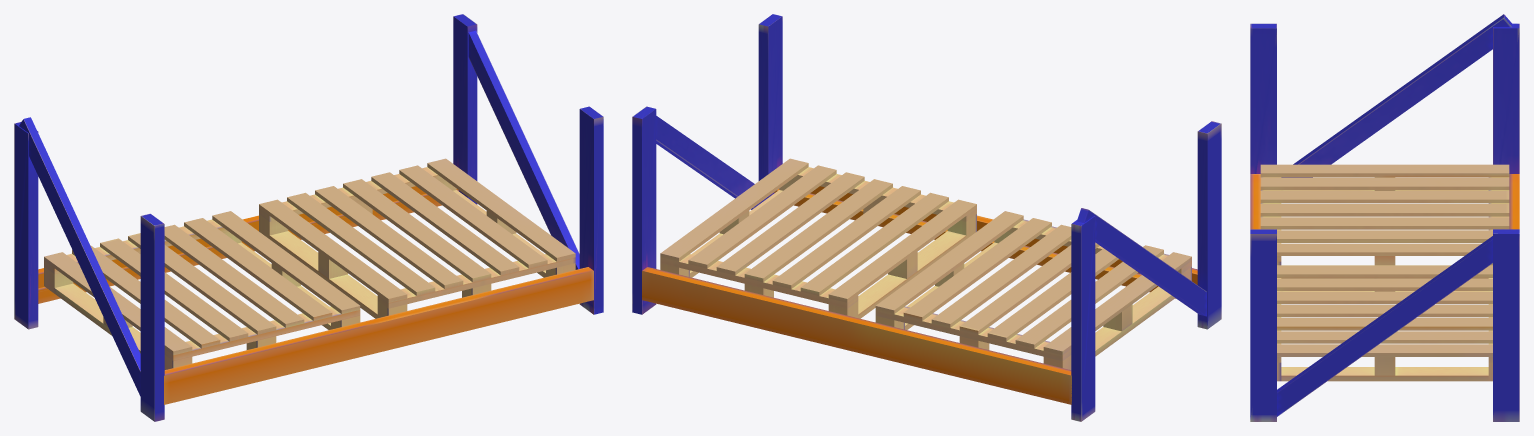
Rendered from Longarina_Junto_2pallets_256px_1m.glb.
3 renders of one model, left to right at view 1: azimuth 30°, elevation 25°; view 2: azimuth 150°, elevation 25°; view 3: azimuth 270°, elevation 25°, orthographic. The views are drawn at different scales.
Parts seen in each view (by area): view 1: Barras_Laterais; view 2: Barras_Laterais; view 3: Barras_Laterais.
Part boxes in pixels (x1,y1,x2,y2): Barras_Laterais: [14, 14, 603, 421]; Barras_Laterais: [632, 14, 1221, 421]; Barras_Laterais: [1250, 14, 1519, 421].
Bounding box in the file's own units: 2.4 × 1.05 × 1.3.
1 material, 1 textured.
